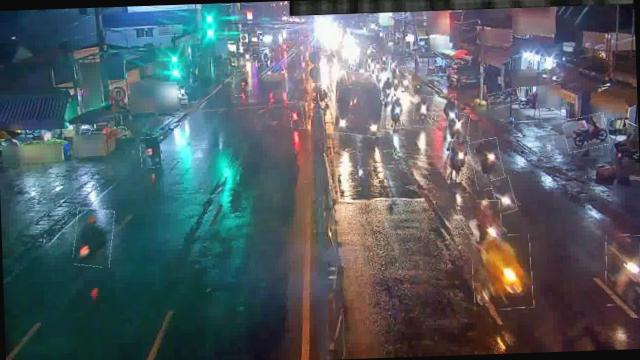Bike: (472, 234, 534, 310), (73, 208, 115, 268), (605, 235, 640, 306), (470, 138, 504, 190), (564, 114, 610, 152), (446, 135, 469, 183), (476, 200, 501, 242), (492, 176, 515, 214), (434, 94, 457, 125), (140, 136, 162, 168), (413, 96, 434, 128), (446, 111, 469, 140), (386, 97, 405, 130), (488, 90, 520, 108), (232, 69, 250, 96), (380, 74, 394, 102), (289, 102, 304, 128), (312, 83, 331, 103), (398, 66, 411, 92), (391, 66, 400, 92)
Bus: (333, 71, 388, 138)
